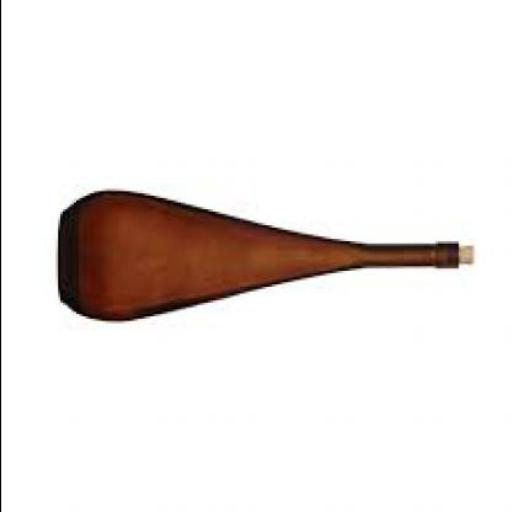glass: (59, 193, 460, 324)
